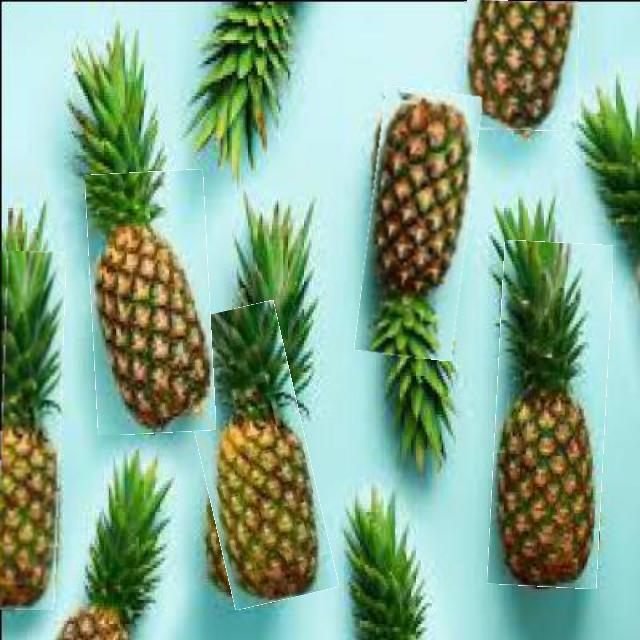Pineapple: (186, 304, 324, 606), (492, 242, 609, 588), (89, 171, 213, 434), (362, 89, 475, 359), (0, 251, 63, 610), (464, 1, 578, 130)
